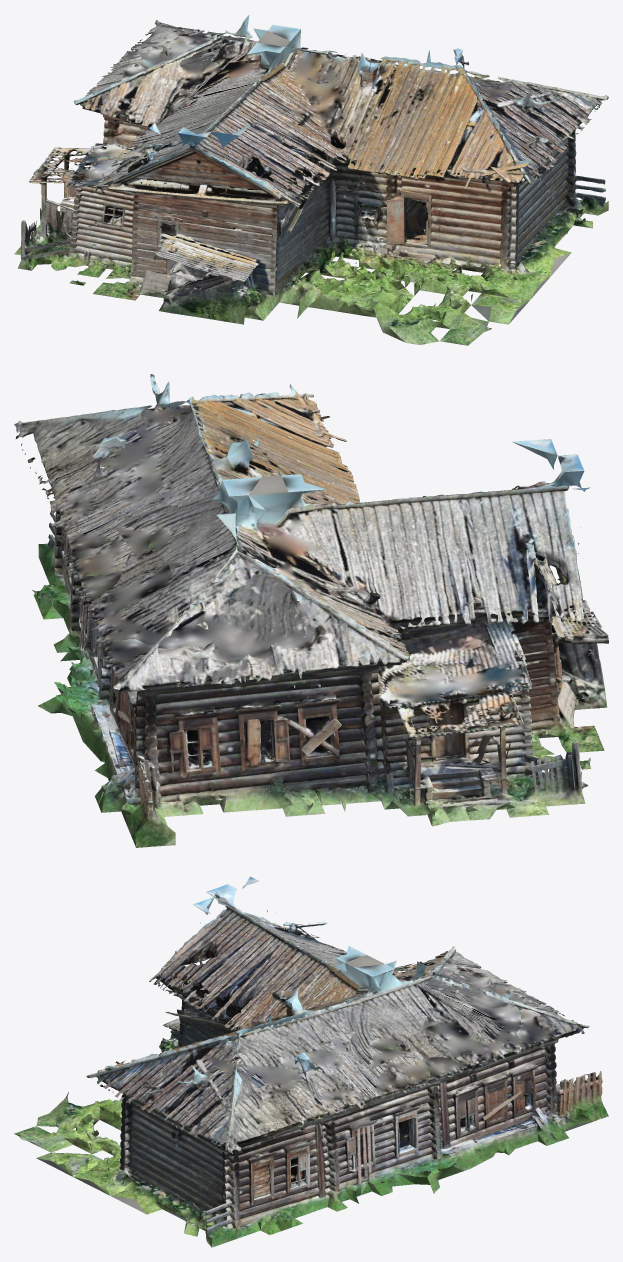
File: ruined_house.glb
3 views of the same model, one above another, from view 1: azimuth 30°, elevation 25°; view 2: azimuth 150°, elevation 25°; view 3: azimuth 270°, elevation 25° (orthographic). The views are drawn at different scales.
Visible parts, largest first — view 1: Object_2, Object_3; view 2: Object_2, Object_3; view 3: Object_2, Object_3.
Boxes of the visible parts, x1=… form: Object_2: x1=21, y1=15, x2=608, y2=345; Object_3: x1=14, y1=20, x2=585, y2=305; Object_2: x1=14, y1=374, x2=608, y2=816; Object_3: x1=25, y1=413, x2=608, y2=847; Object_2: x1=14, y1=907, x2=585, y2=1247; Object_3: x1=91, y1=876, x2=608, y2=1234.
Bounding box in the file's own units: 40.18 × 13.06 × 42.29.
Materials: 1 (1 with a texture image).
